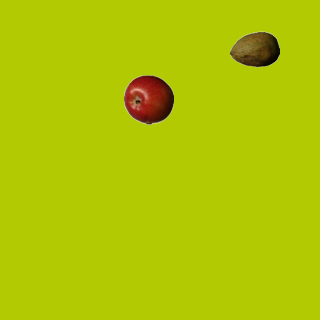Apple Braeburn: (123, 74, 173, 124)
Papaya: (229, 24, 279, 74)
